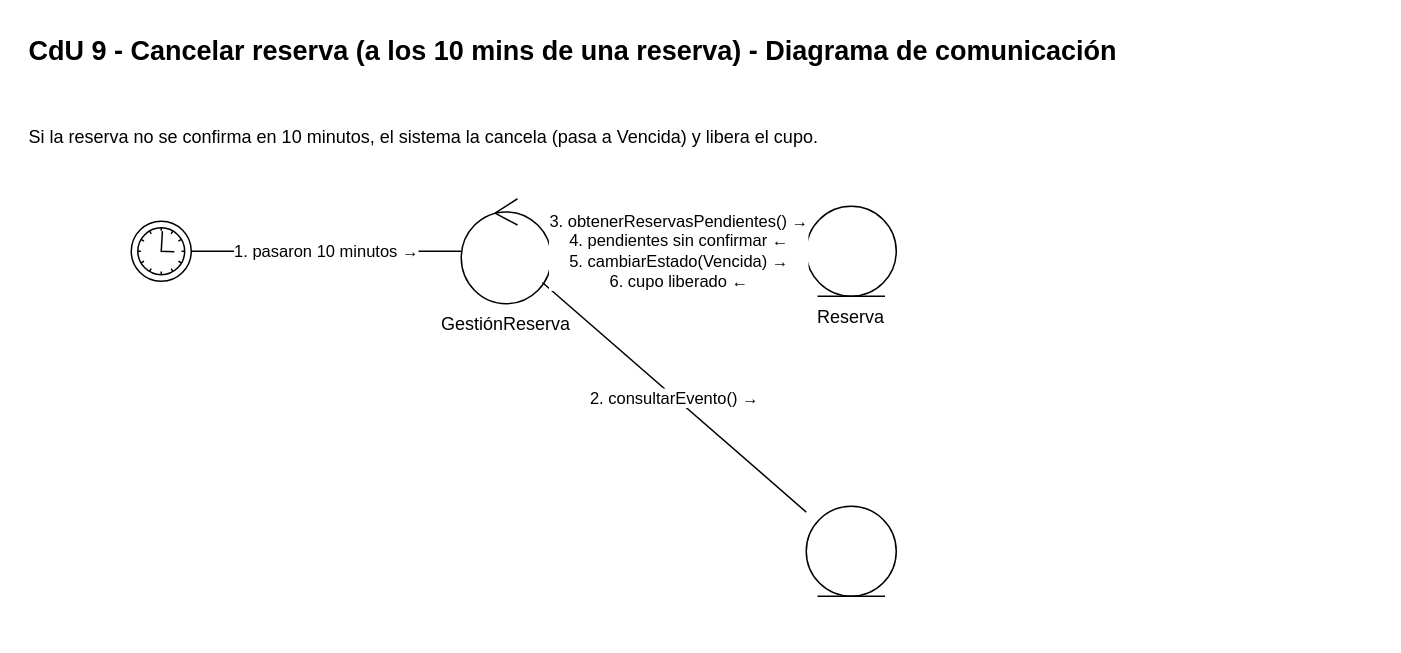
Image size: 1401x653. Some labels were removed from this diagram. The shapes that lost their labels are listed below. From the top down, each one's centre as x and y in pixels, then its label:
At pixel 160 250: "10 mins de una reserva".
At pixel 850 550: "Evento".
